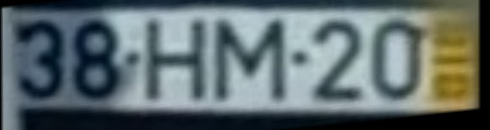0: (368, 16, 426, 106)
2: (309, 17, 367, 107)
3: (13, 17, 69, 104)
8: (70, 15, 123, 106)
H: (142, 15, 212, 106)
M: (211, 15, 288, 108)
